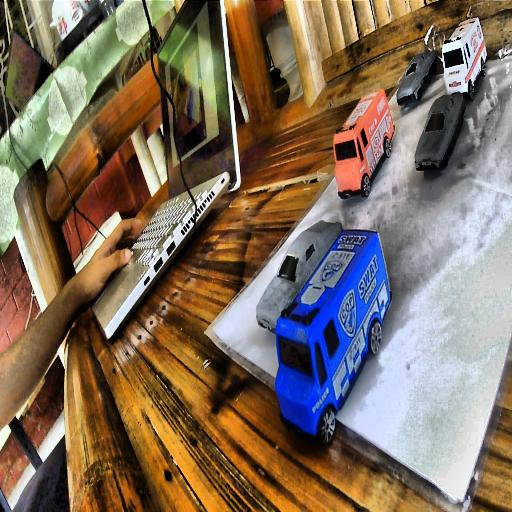ambulance: (440, 16, 488, 102)
fire_truck: (332, 88, 394, 202)
normal_car: (256, 222, 338, 336), (414, 91, 465, 172), (396, 48, 438, 105)
police car: (270, 222, 390, 444)
